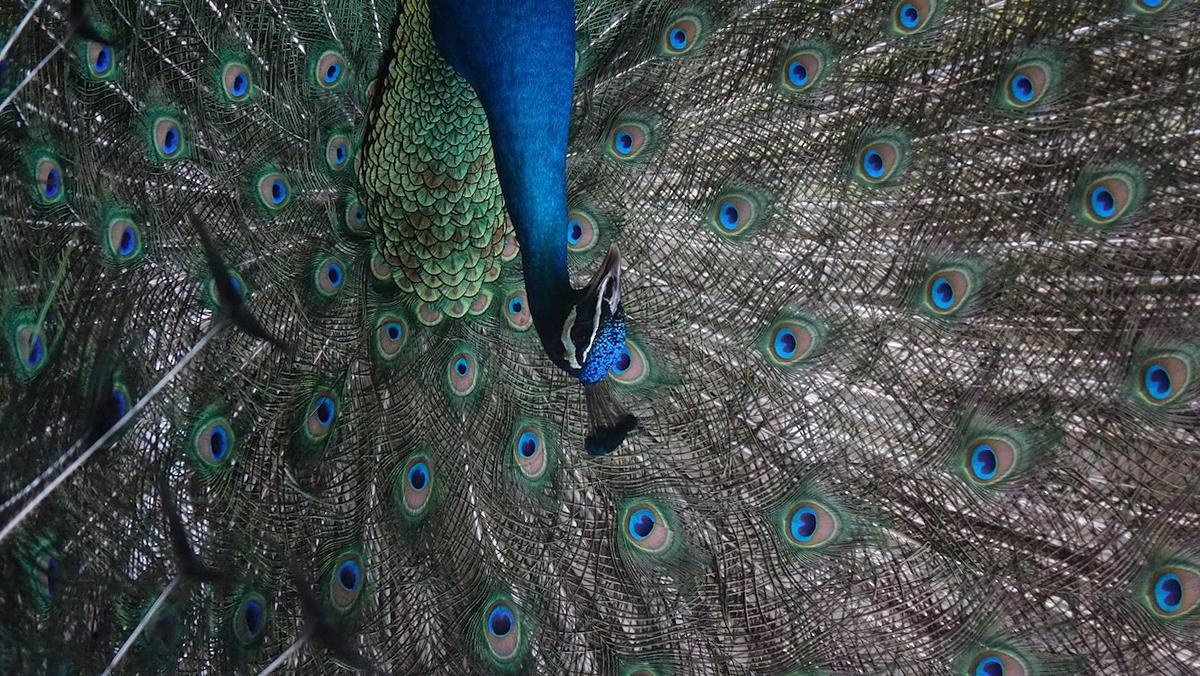peacock: (24, 1, 1088, 622)
